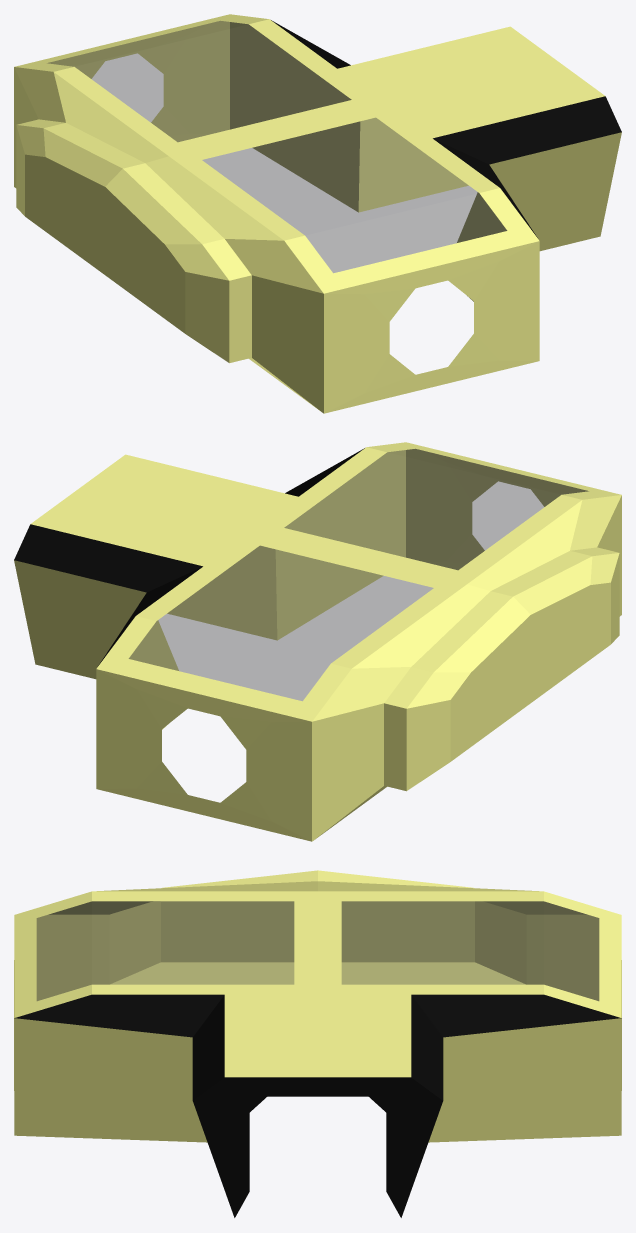
File: Sala04.FBX
3 renders of one model, top to bottom at view 1: azimuth 30°, elevation 25°; view 2: azimuth 150°, elevation 25°; view 3: azimuth 270°, elevation 25°, orthographic. The views are drawn at different scales.
Parts seen in each view (by area): view 1: Sala04; view 2: Sala04; view 3: Sala04.
Boxes of the visible parts, x1=… form: Sala04: x1=14, y1=14, x2=621, y2=413; Sala04: x1=14, y1=442, x2=621, y2=841; Sala04: x1=14, y1=870, x2=621, y2=1217.
Bounding box in the file's own units: 30.45 × 9.25 × 36.13.
